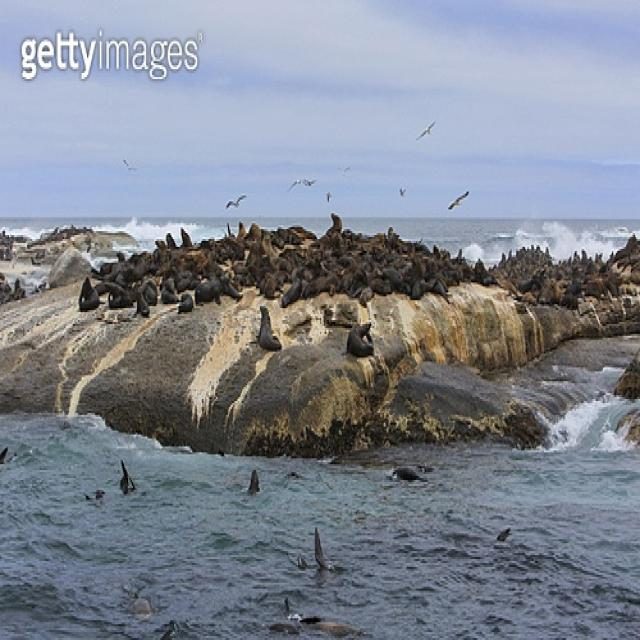WaterDog: (258, 299, 286, 356)
